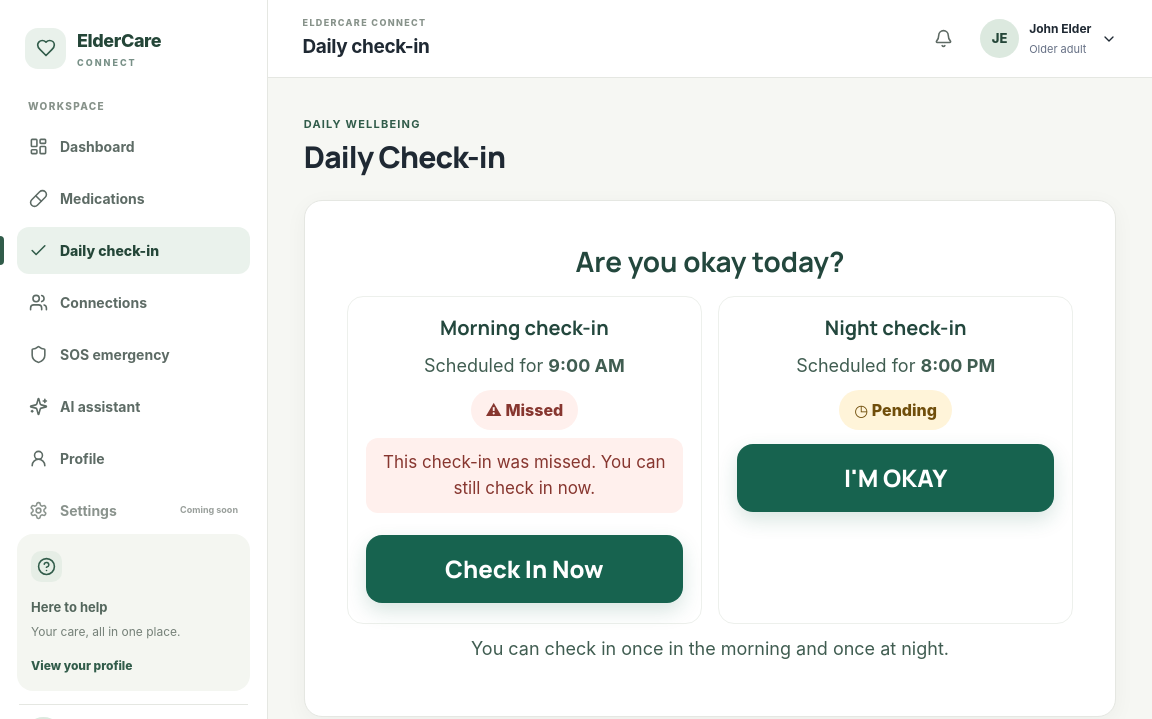
Test: daily check-in pages › allows a missed morning check-in to be completed late
Check: the text "This check-in was missed. You can still check in now." is shown, box [366, 438, 683, 513]
Click the button "Check In Now" at [524, 569], box [366, 535, 683, 603]
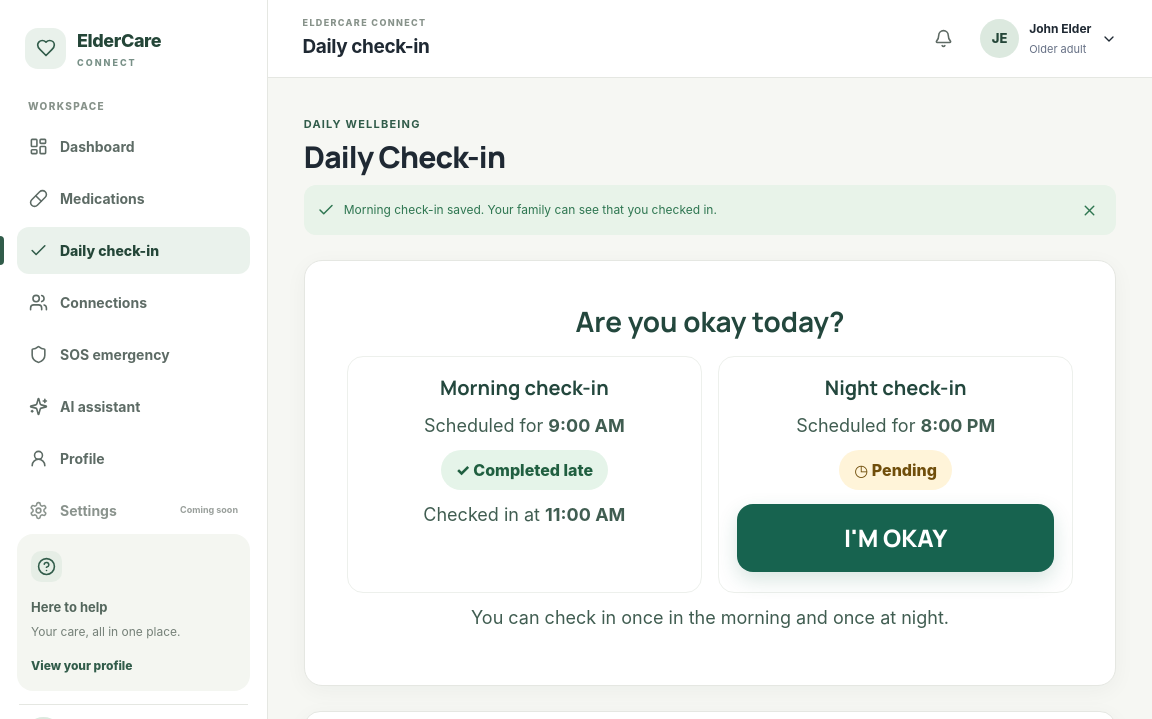
Check: the text "Morning check-in saved. Your family can see that you checked in." is shown, box [344, 202, 717, 217]
